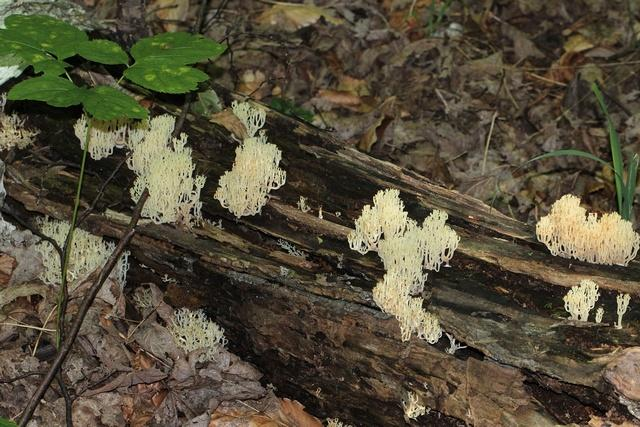Edible Mushroom: (346, 186, 461, 343), (125, 112, 206, 225), (213, 99, 287, 220), (30, 213, 130, 294), (535, 192, 638, 266), (72, 84, 149, 160), (165, 305, 228, 358), (562, 277, 600, 321)
